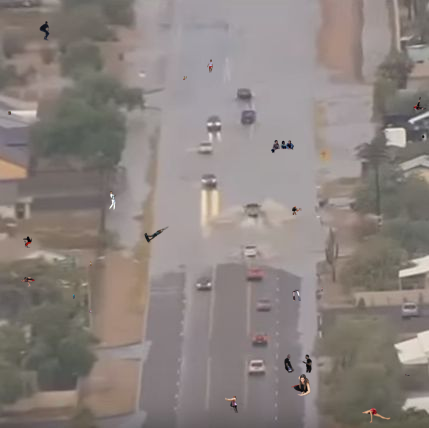Human: (284, 354, 312, 373), (272, 285, 304, 301), (288, 374, 311, 396), (144, 225, 170, 244), (362, 408, 391, 423), (225, 396, 247, 413), (271, 140, 294, 154), (39, 21, 50, 41), (413, 97, 426, 111), (109, 191, 117, 210), (20, 277, 35, 287), (23, 236, 32, 248), (292, 206, 302, 215), (207, 59, 213, 73), (183, 76, 187, 80), (89, 309, 92, 313), (8, 111, 11, 115), (73, 293, 75, 299), (405, 374, 410, 376), (90, 261, 92, 266), (321, 287, 323, 292), (422, 135, 425, 138)
